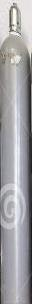cylinder: (0, 1, 32, 304)
